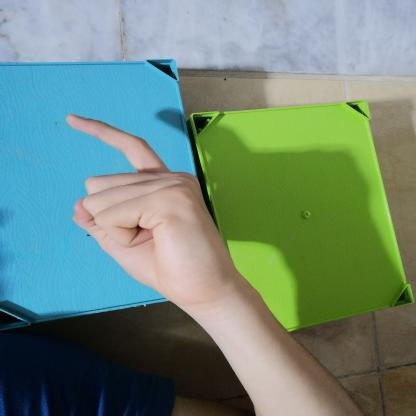RAA: (50, 106, 238, 306)
